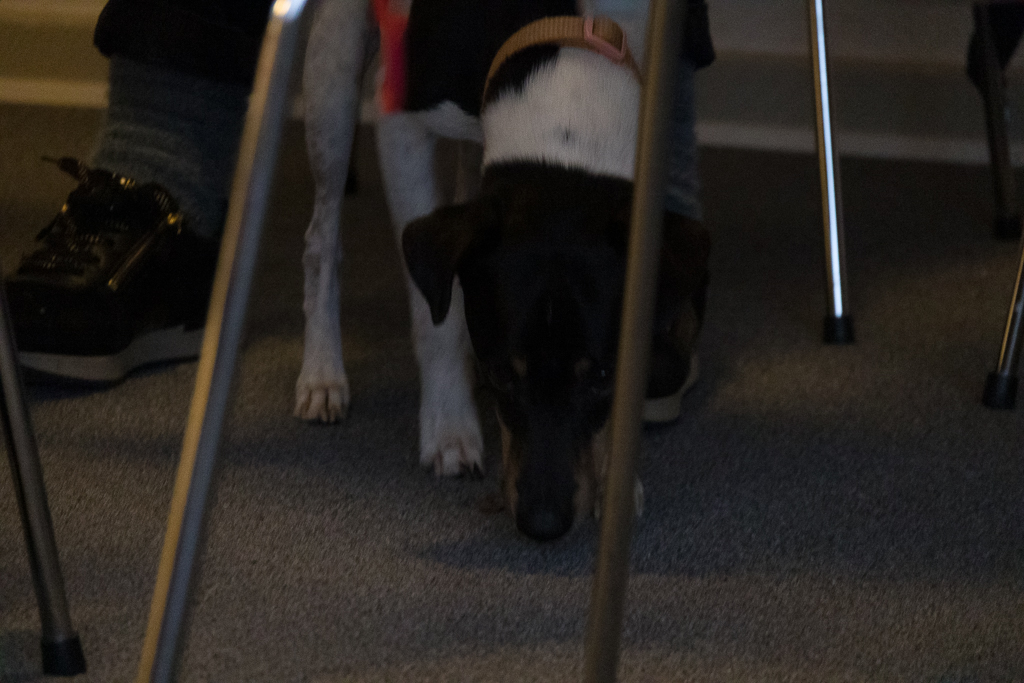Dog: (292, 0, 706, 557)
Humanoid: (0, 0, 728, 431)
